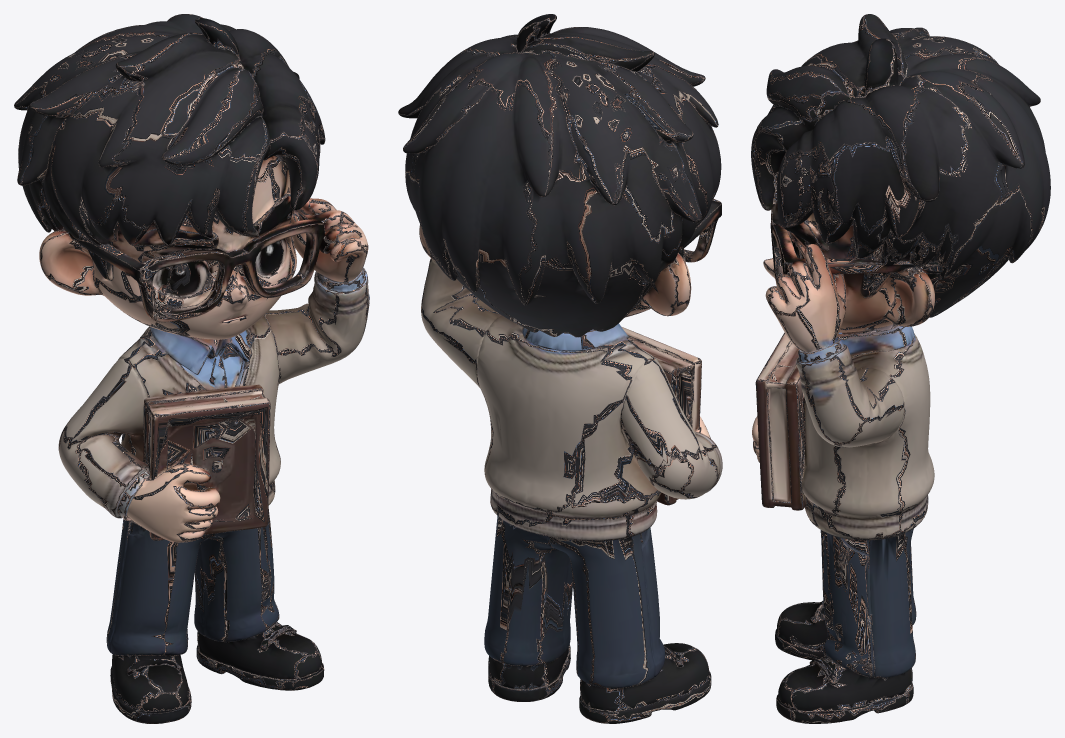
File: char-scholar.glb
3 views of the same model, side by side, from view 1: azimuth 30°, elevation 25°; view 2: azimuth 150°, elevation 25°; view 3: azimuth 270°, elevation 25° (orthographic). The views are drawn at different scales.
Parts seen in each view (by area): view 1: node_0; view 2: node_0; view 3: node_0.
Part boxes in pixels (x1=…): node_0: x1=14, y1=14, x2=369, y2=723; node_0: x1=398, y1=14, x2=722, y2=723; node_0: x1=751, y1=14, x2=1050, y2=723.
Bounding box in the file's own units: 0.3217 × 0.6571 × 0.2765.
Materials: 1 (1 with a texture image).
